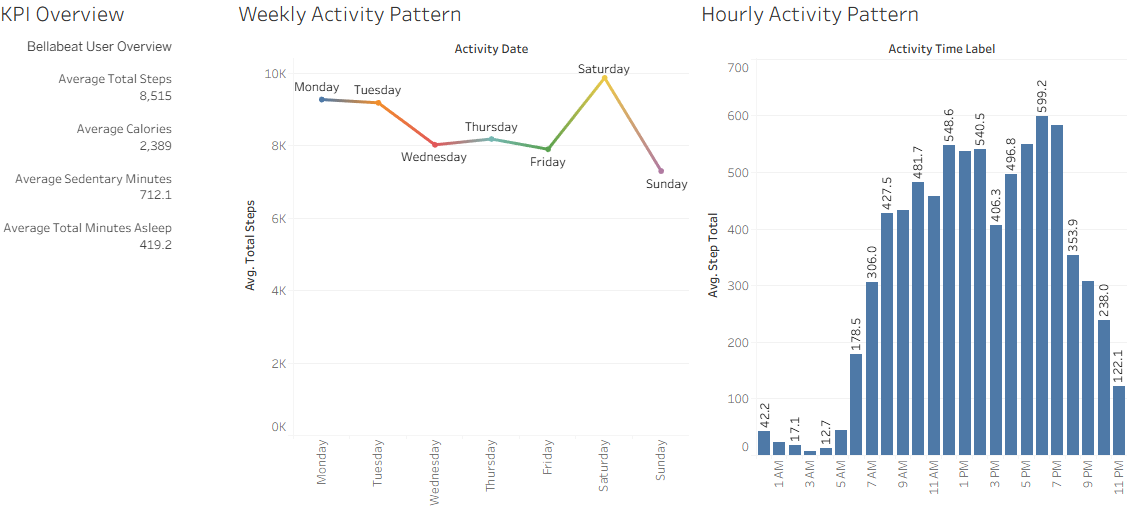

Layout of this report page (visuals, bound fields, positions):
{"tool":"tableau","page":{"name":"User Activity Overview","canvas":[1000,1000],"units":"permille","ordinal":0},"visuals":[{"type":"worksheet","title":"KPI Overview","mark":"Automatic","box":[6.9,14.7,206.1,970.6]},{"type":"worksheet","title":"Weekly Activity Pattern","mark":"Automatic","rows":["TotalSteps"],"cols":["ActivityDate"],"box":[213,14.7,400.9,970.6]},{"type":"worksheet","title":"Hourly Activity Pattern","mark":"Automatic","rows":["StepTotal"],"cols":["Calculation_1368249889525604358"],"box":[613.9,14.7,379.2,970.6]}]}

Visuals, with their boxes on the dashboard's canvas, which has no fixed pixel size, in thousandths of its width and height (x1, y1, x2, y2). These are canvas units, not pixel positions in the 1139x520 screenshot, which may show the page scaled, cropped or inside an application window:
"KPI Overview" worksheet: 7,15,213,985
"Weekly Activity Pattern" worksheet: 213,15,614,985
"Hourly Activity Pattern" worksheet: 614,15,993,985
